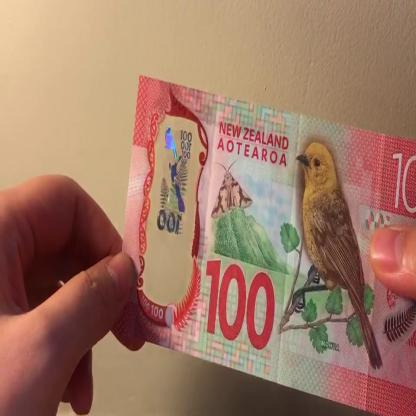100B: (155, 120, 195, 259)
